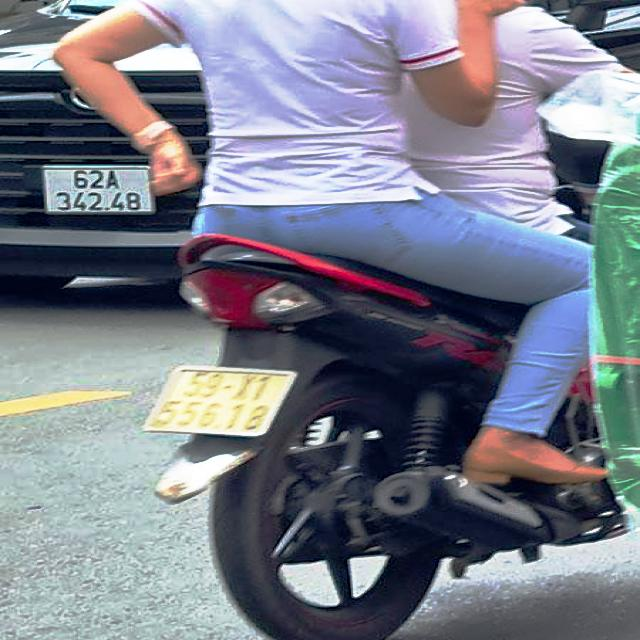license_plate: (144, 370, 301, 440), (44, 167, 159, 213)
